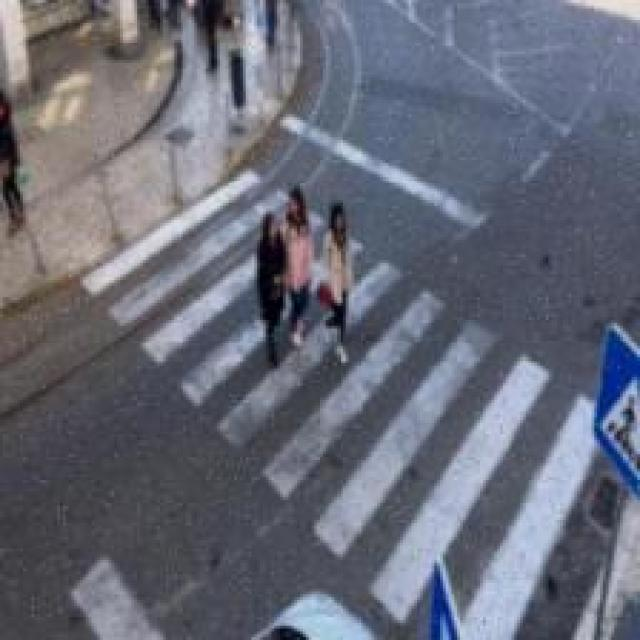walk-crossing: (74, 164, 629, 639)
